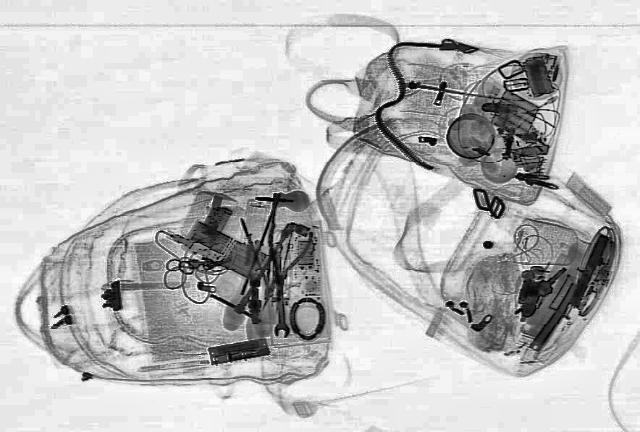Pliers: (230, 216, 314, 310)
Wrench: (268, 242, 290, 338)
